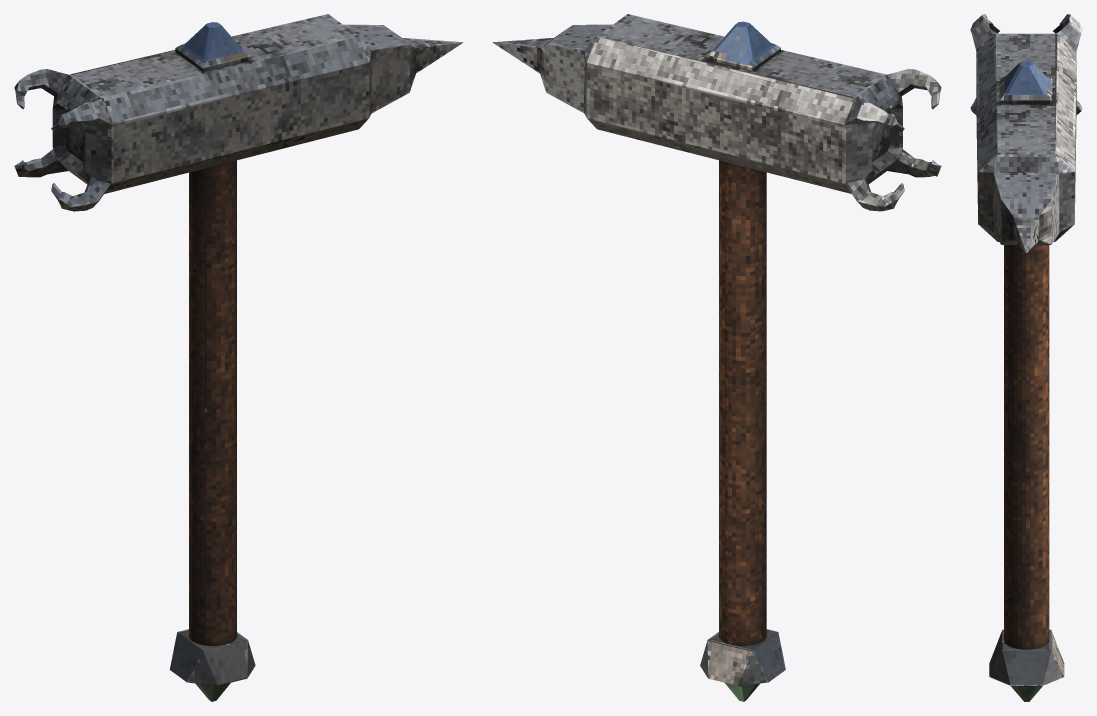
File: st_loot_hammer.glb
The picture shows the model from 3 angles, left to right: view 1: azimuth 30°, elevation 25°; view 2: azimuth 150°, elevation 25°; view 3: azimuth 270°, elevation 25°; orthographic projection. The views are drawn at different scales.
Visible parts, largest first — view 1: Cube; view 2: Cube; view 3: Cube.
Part boxes in pixels (x1,y1,x2,y2): Cube: (14, 14, 462, 701); Cube: (492, 14, 941, 701); Cube: (970, 14, 1082, 701).
Bounding box in the file's own units: 0.6481 × 0.9744 × 0.1555.
Materials: 1 (1 with a texture image).
